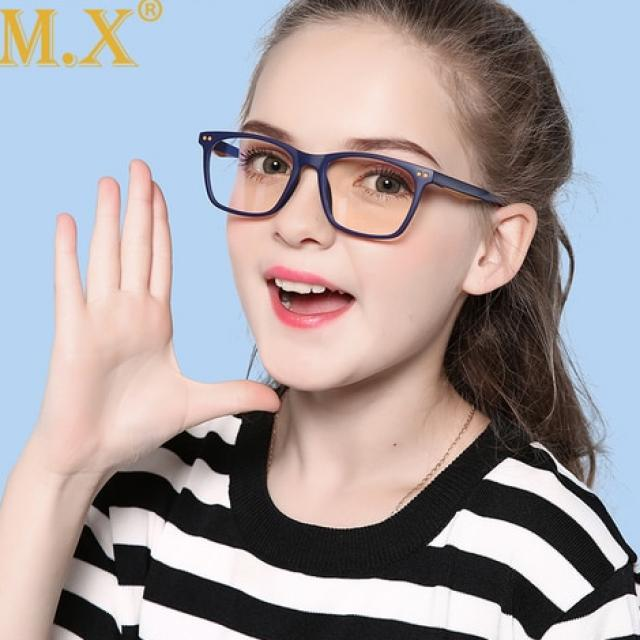Glasses: (199, 125, 503, 245)
